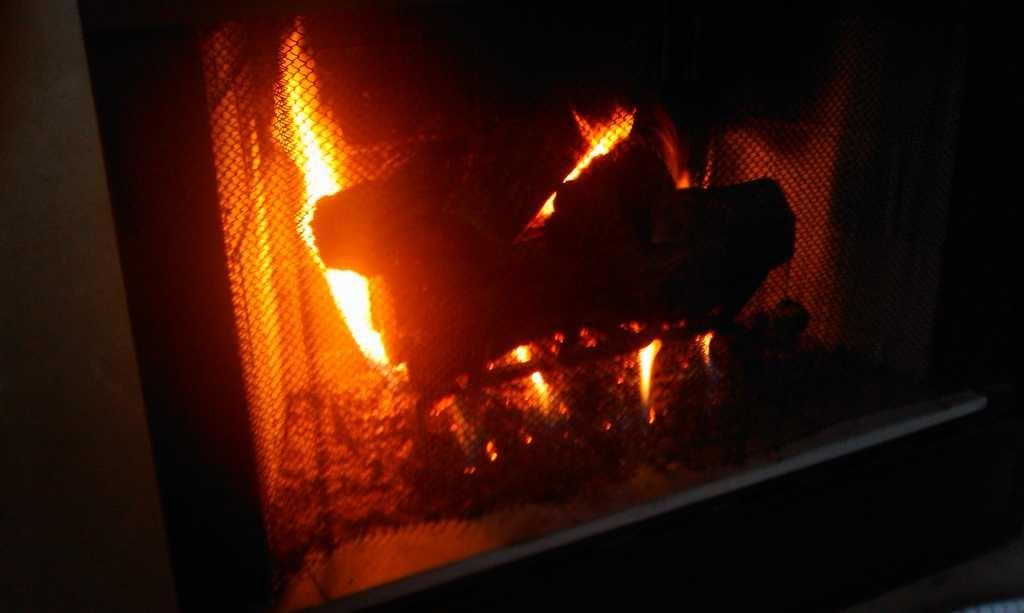fire: (330, 267, 387, 361), (299, 93, 336, 200), (586, 111, 633, 156), (640, 343, 661, 399)
